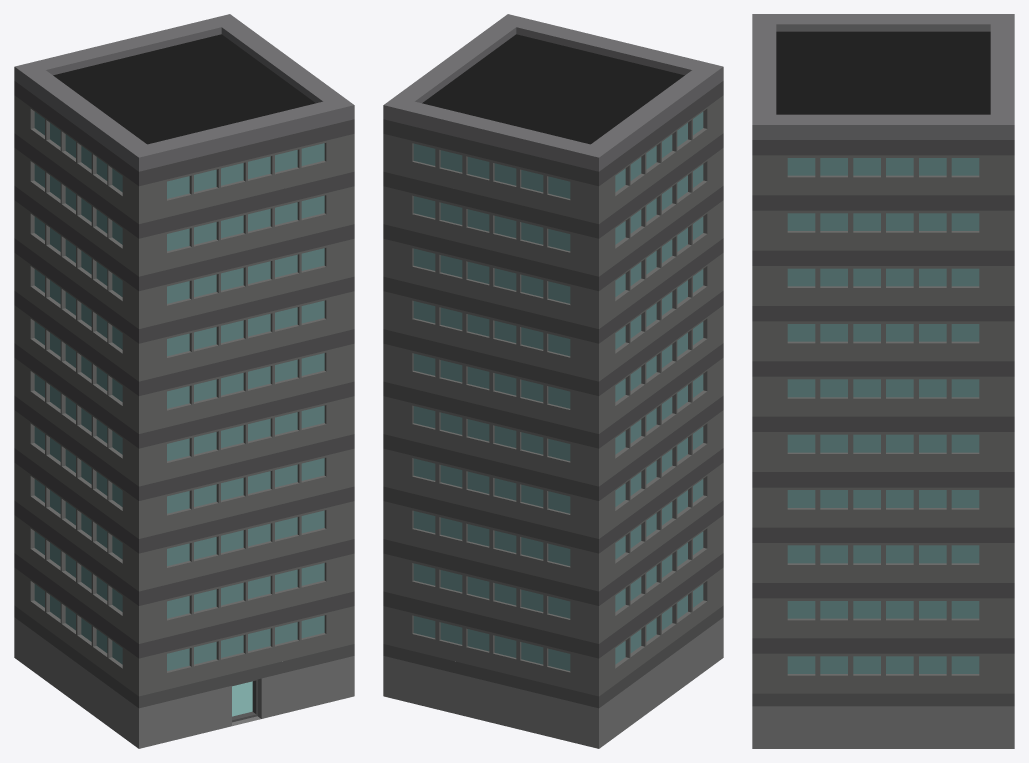
Rendered from edificio_12.fbx.
3 views of the same model, side by side, from view 1: azimuth 30°, elevation 25°; view 2: azimuth 150°, elevation 25°; view 3: azimuth 270°, elevation 25° (orthographic). The views are drawn at different scales.
Visible parts, largest first — view 1: Cube.010; view 2: Cube.010; view 3: Cube.010.
Part boxes in pixels (bbox=[...]): Cube.010: bbox=[14, 14, 354, 748]; Cube.010: bbox=[383, 14, 723, 748]; Cube.010: bbox=[752, 14, 1014, 748].
Bounding box in the file's own units: 4002 × 10489 × 4002.
